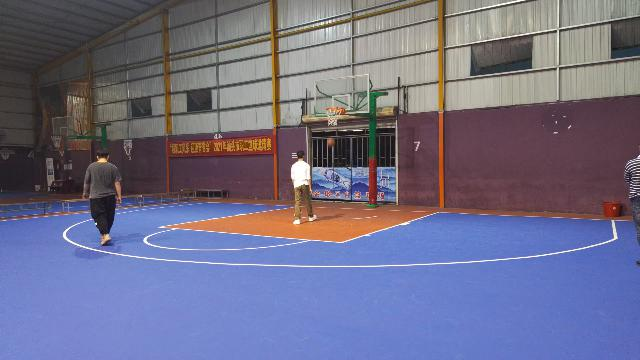ball: (325, 136, 335, 148)
